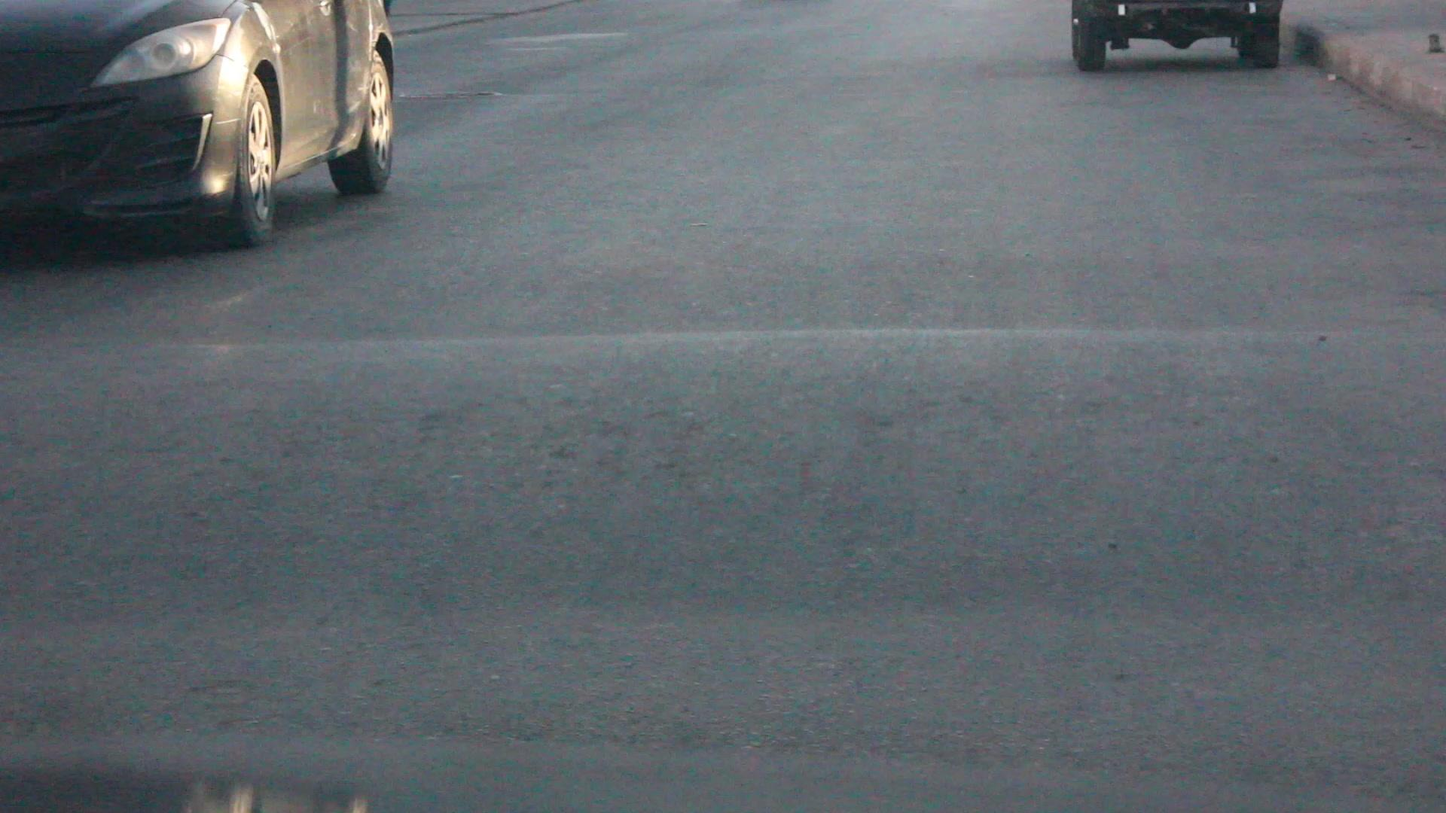Bump: (0, 335, 1446, 602)
